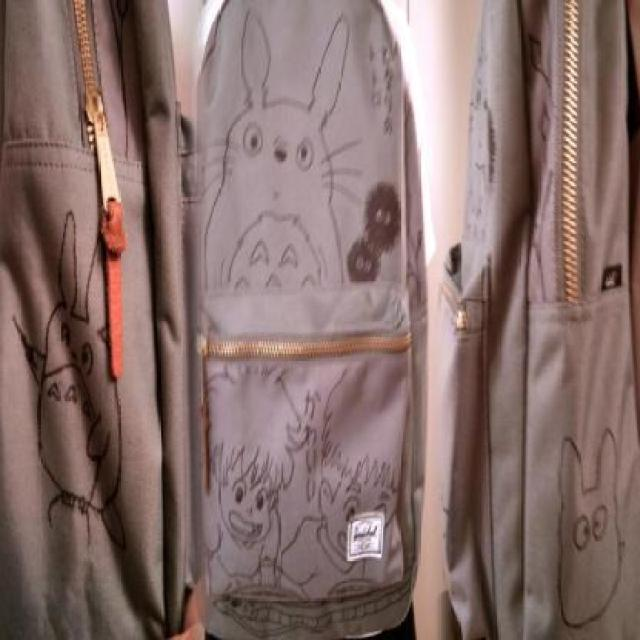backpack: (184, 1, 432, 640), (431, 0, 640, 640), (0, 0, 183, 638)
